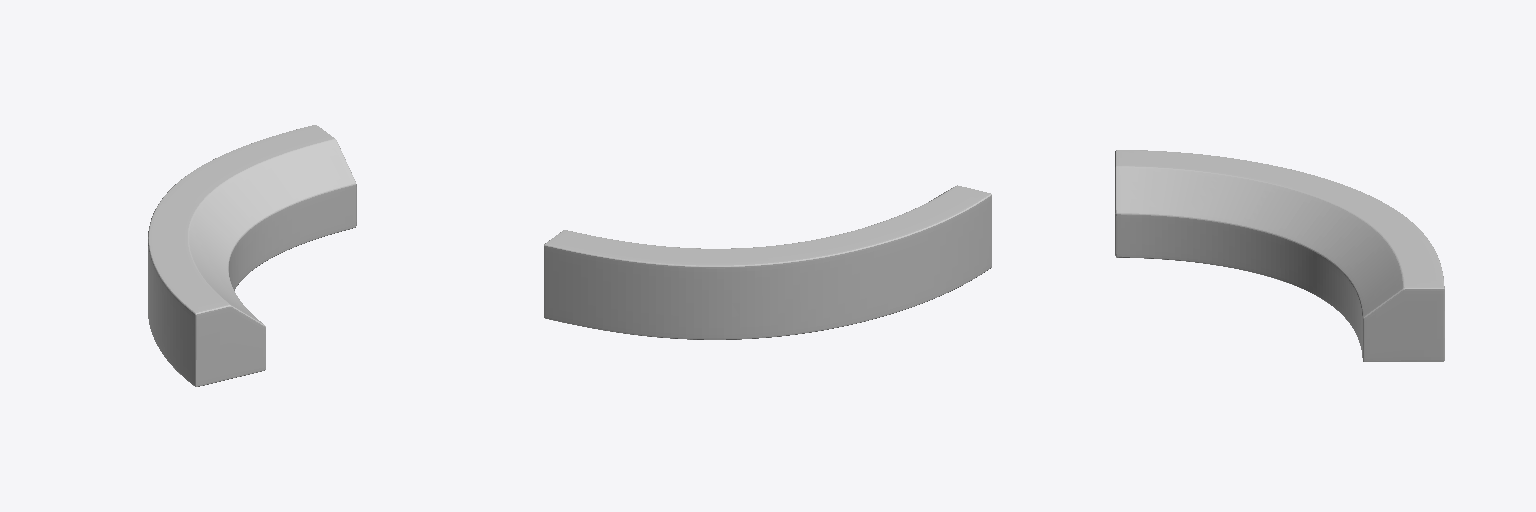
Rendered from OutsideBend_HP(1).obj.
3 renders of one model, left to right at view 1: azimuth 30°, elevation 25°; view 2: azimuth 150°, elevation 25°; view 3: azimuth 270°, elevation 25°, orthographic.
Visible parts, largest first — view 1: Outside_Bend; view 2: Outside_Bend; view 3: Outside_Bend.
Boxes of the visible parts, x1,y1,x2,y2 form: Outside_Bend: [148, 125, 356, 386]; Outside_Bend: [544, 185, 991, 339]; Outside_Bend: [1115, 150, 1444, 361].
Size of the model in its own units: 4 by 0.9999 by 4.